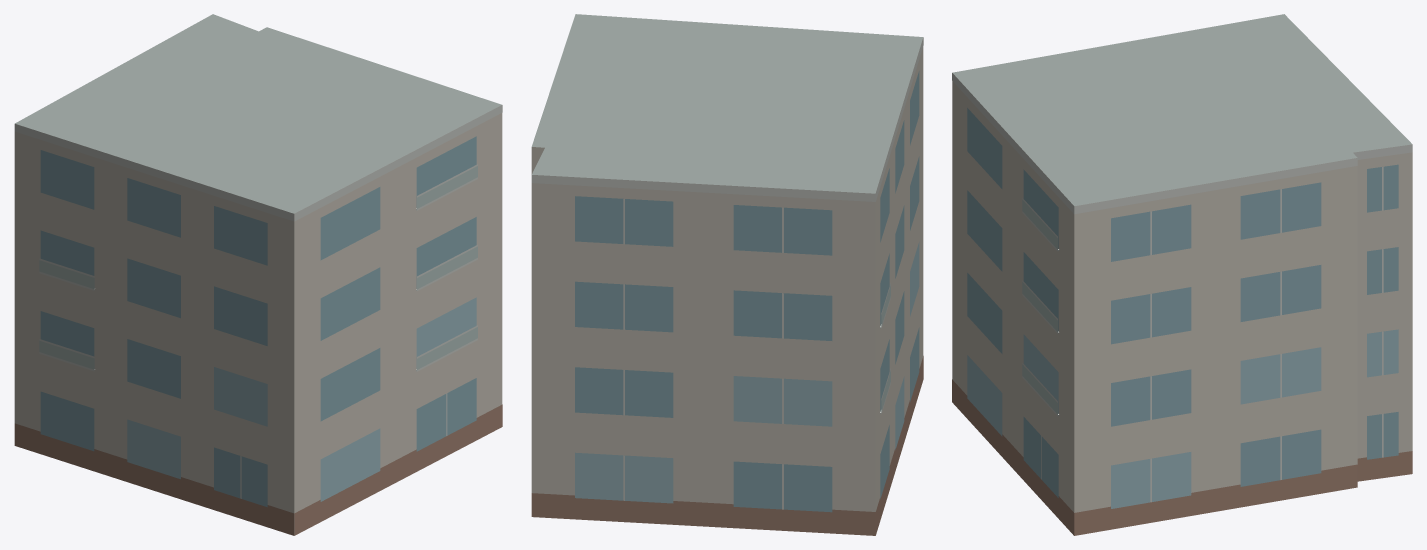
Rendered from survey-upis-32960816.glb.
3 views of the same model, side by side, from view 1: azimuth 30°, elevation 25°; view 2: azimuth 150°, elevation 25°; view 3: azimuth 270°, elevation 25° (orthographic). The views are drawn at different scales.
Parts seen in each view (by area): view 1: survey-upis-32960816.tmp; view 2: survey-upis-32960816.tmp; view 3: survey-upis-32960816.tmp.
Part boxes in pixels (box(x1,y1,x2,y2)): survey-upis-32960816.tmp: box(14, 14, 502, 535); survey-upis-32960816.tmp: box(531, 14, 923, 535); survey-upis-32960816.tmp: box(952, 14, 1412, 535).
Bounding box in the file's own units: 12.59 × 10.05 × 12.74.
